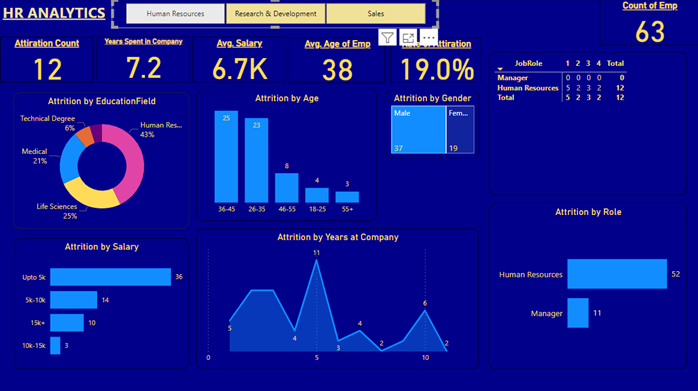

This screenshot's page, from the dashboard's own definition file:
{"tool":"powerbi","page":{"name":"Page 1","canvas":[1280,720],"ordinal":0},"visuals":[{"type":"card","title":"Count of Emp","fields":{"Values":["CountNonNull(HR_Analytics.EmpID)"]},"box":[1097.2,0,183.1,84.3],"z":0},{"type":"card","title":"Attiration Count","fields":{"Values":["Sum(HR_Analytics.AttirationCount)"]},"box":[0,68.3,170,84.3],"z":1},{"type":"card","title":"Rate of Attiration","fields":{"Values":["HR_Analytics.AttritionRate"]},"box":[715,70,166.7,81.7],"z":2},{"type":"card","title":"Avg. Age of Emp","fields":{"Values":["Avg(HR_Analytics.Age)"]},"box":[530,70,175,83.3],"z":3},{"type":"card","title":"Avg. Salary","fields":{"Values":["Avg(HR_Analytics.MonthlyIncome)"]},"box":[353.3,68.3,170,83.3],"z":4},{"type":"card","title":"Years Spent in Company","fields":{"Values":["Avg(HR_Analytics.YearsAtCompany)"]},"box":[176.7,68.3,170,83.3],"z":5},{"type":"donutChart","title":"Attrition by EducationField","fields":{"Category":["HR_Analytics.EducationField"],"Y":["CountNonNull(HR_Analytics.Attrition)"]},"box":[25,170,321.7,250],"z":6},{"type":"columnChart","title":"Attrition by Age","fields":{"Category":["HR_Analytics.AgeGroup"],"Y":["CountNonNull(HR_Analytics.Attrition)"]},"box":[360,165,330,241.7],"z":7},{"type":"pivotTable","fields":{"Rows":["HR_Analytics.JobRole"],"Columns":["HR_Analytics.JobSatisfaction"],"Values":["Sum(HR_Analytics.AttirationCount)"]},"box":[895,96.7,363.3,263.3],"z":8},{"type":"barChart","title":"Attrition by Salary","fields":{"Category":["HR_Analytics.SalarySlab"],"Y":["CountNonNull(HR_Analytics.Attrition)"]},"box":[25,438.3,321.7,240],"z":9},{"type":"barChart","title":"Attrition by Role","fields":{"Y":["CountNonNull(HR_Analytics.Attrition)"],"Category":["HR_Analytics.JobRole"]},"box":[895,373.3,363.3,305],"z":10},{"type":"areaChart","title":"Attrition by Years at Company","fields":{"Category":["HR_Analytics.YearsAtCompany"],"Y":["CountNonNull(HR_Analytics.Attrition)"]},"box":[360,420,516.7,258.3],"z":11},{"type":"treemap","title":"Attrition by Gender","fields":{"Group":["HR_Analytics.Gender"],"Values":["CountNonNull(HR_Analytics.Attrition)"]},"box":[705,165,171.7,126.7],"z":12},{"type":"slicer","fields":{"Values":["HR_Analytics.Department"]},"box":[205,0,598.3,51.7],"z":13},{"type":"textbox","box":[0,0,240,56.7],"z":14}]}

Visuals, with their boxes in screenshot pixels (x1, y1, x2, y2), scaled from the page's 1280x720 canvas onto the 698x391 screenshot:
"Count of Emp" card: detection(598, 0, 697, 46)
"Attiration Count" card: detection(0, 37, 93, 83)
"Rate of Attiration" card: detection(390, 38, 481, 82)
"Avg. Age of Emp" card: detection(289, 38, 384, 83)
"Avg. Salary" card: detection(193, 37, 285, 82)
"Years Spent in Company" card: detection(96, 37, 189, 82)
"Attrition by EducationField" donutChart: detection(14, 92, 189, 228)
"Attrition by Age" columnChart: detection(196, 90, 376, 221)
pivotTable - HR_Analytics.JobRole x HR_Analytics.JobSatisfaction: detection(488, 53, 686, 195)
"Attrition by Salary" barChart: detection(14, 238, 189, 368)
"Attrition by Role" barChart: detection(488, 203, 686, 368)
"Attrition by Years at Company" areaChart: detection(196, 228, 478, 368)
"Attrition by Gender" treemap: detection(384, 90, 478, 158)
slicer - HR_Analytics.Department: detection(112, 0, 438, 28)
textbox: detection(0, 0, 131, 31)
